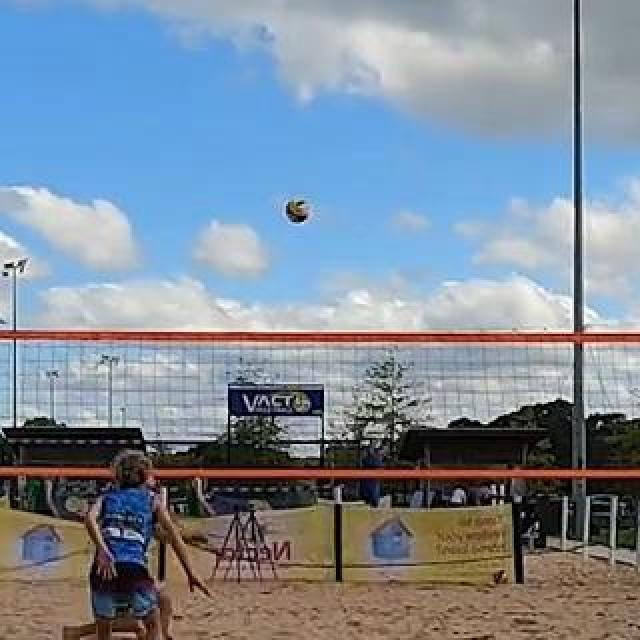volleyball: (284, 199, 310, 223), (493, 569, 509, 585)
